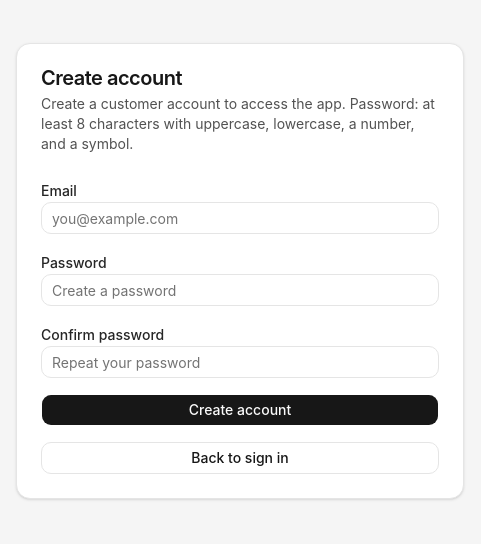
Test: SignUpPage › shows API error when signup fails
Type "taken@example.com" into the field labelled "Email".
click(240, 218); type("taken@example.com")  # box x1=41 y1=202 x2=439 y2=234
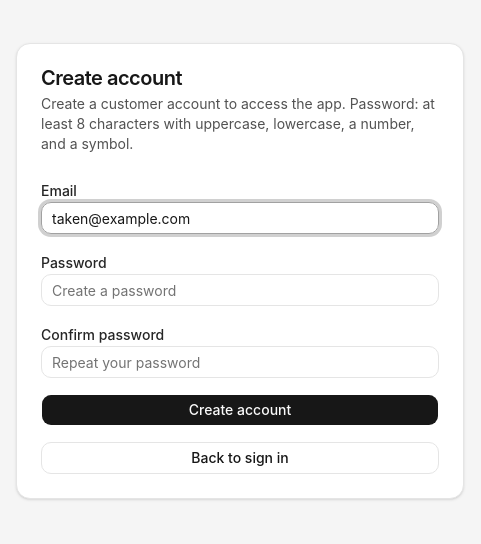
Type "ValidPass1!" into the password field labelled "Password".
click(240, 290); type("ValidPass1!")  # box x1=41 y1=274 x2=439 y2=306
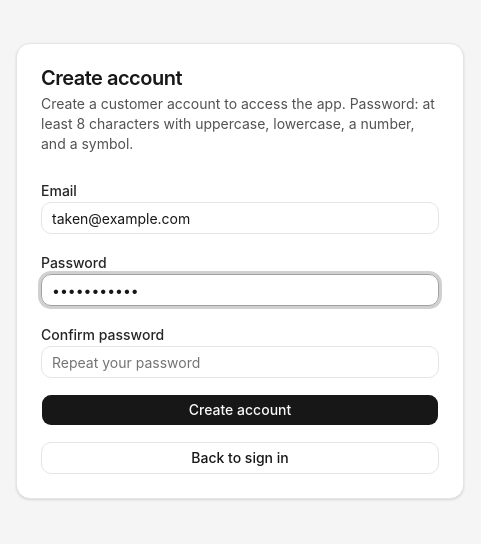
Type "ValidPass1!" into the password field labelled "Confirm password".
click(240, 362); type("ValidPass1!")  # box x1=41 y1=346 x2=439 y2=378
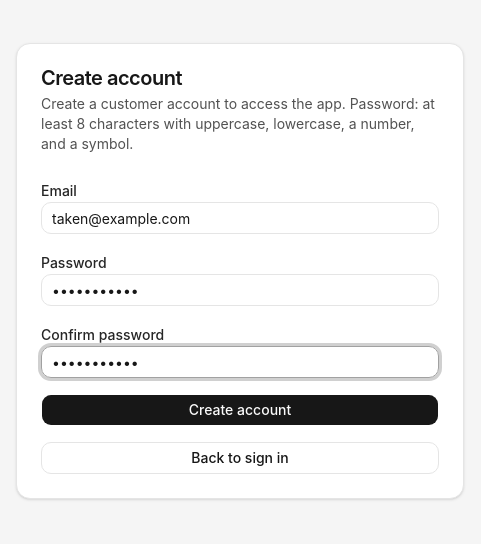
Click the button "Create account".
click(240, 410)  # box x1=41 y1=394 x2=439 y2=426
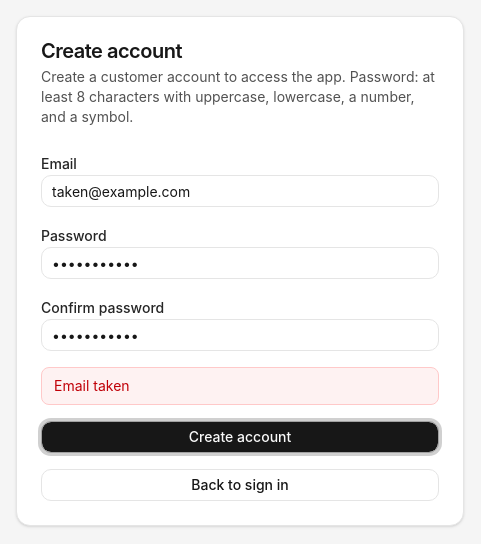
Result: the text "Email taken" is shown at x1=41 y1=367 x2=439 y2=405
